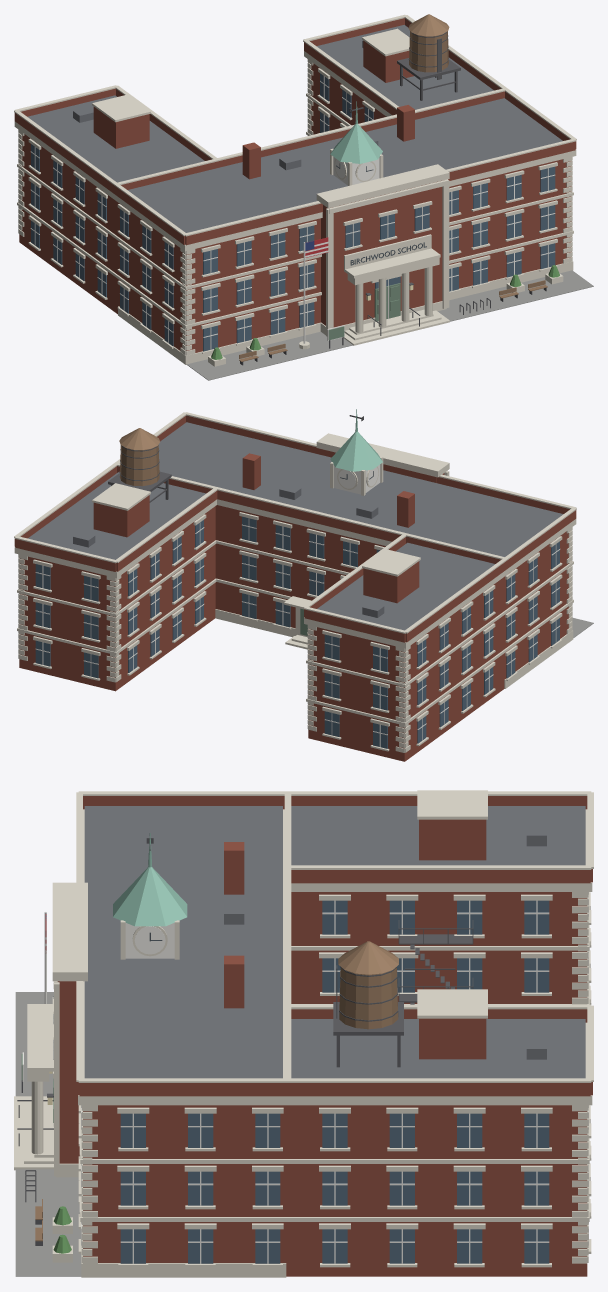
Rendered from birchwood_main.glb.
3 views of the same model, one above another, from view 1: azimuth 30°, elevation 25°; view 2: azimuth 150°, elevation 25°; view 3: azimuth 270°, elevation 25° (orthographic). The views are drawn at different scales.
Visible parts, largest first — view 1: birchwood_main_export; view 2: birchwood_main_export; view 3: birchwood_main_export.
Boxes of the visible parts, x1=… form: birchwood_main_export: x1=14, y1=14, x2=593, y2=380; birchwood_main_export: x1=14, y1=409, x2=593, y2=761; birchwood_main_export: x1=14, y1=790, x2=593, y2=1277.
Size of the model in its own units: 40.8 by 19.8 by 34.5.
